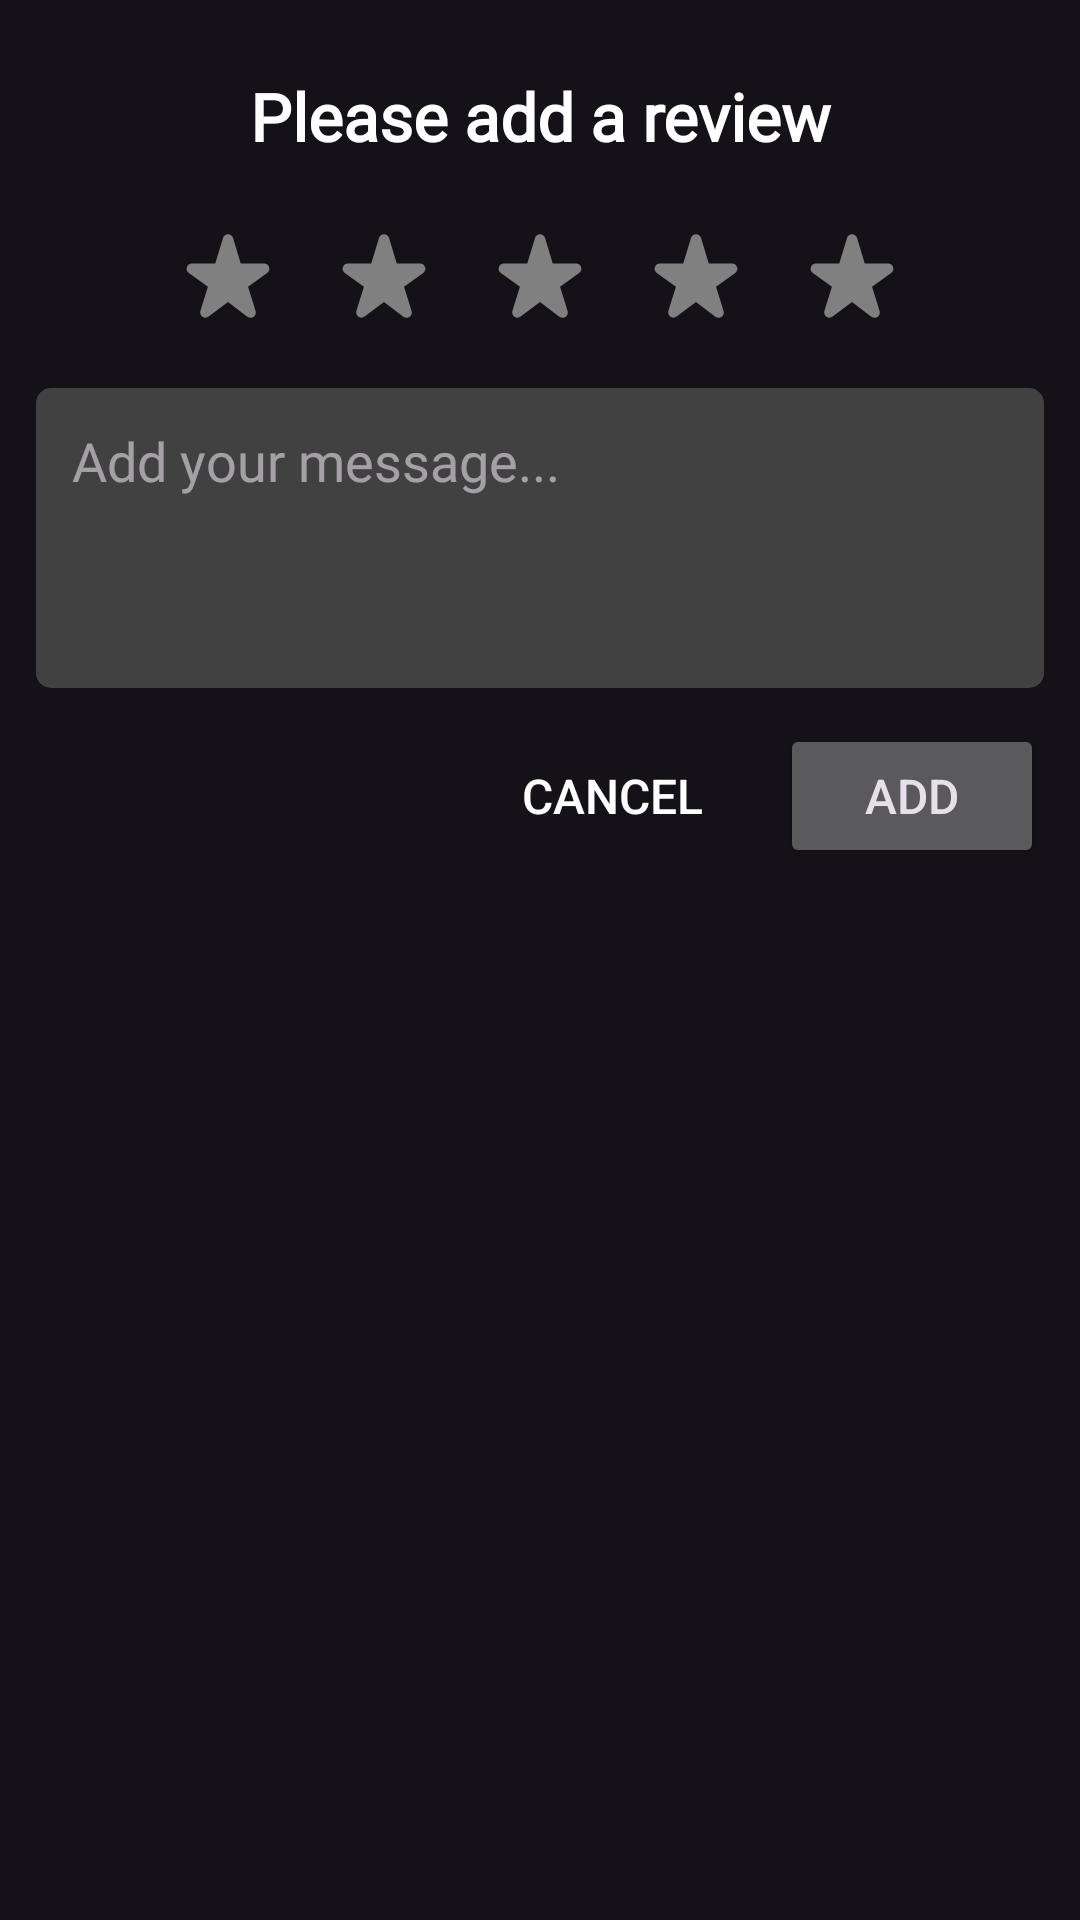

Point at icon controls on the screen. Image size 1080 × 1920, points as (x,y).
star rate: (228,276), (384,276), (540,276), (696,276), (852,276)
